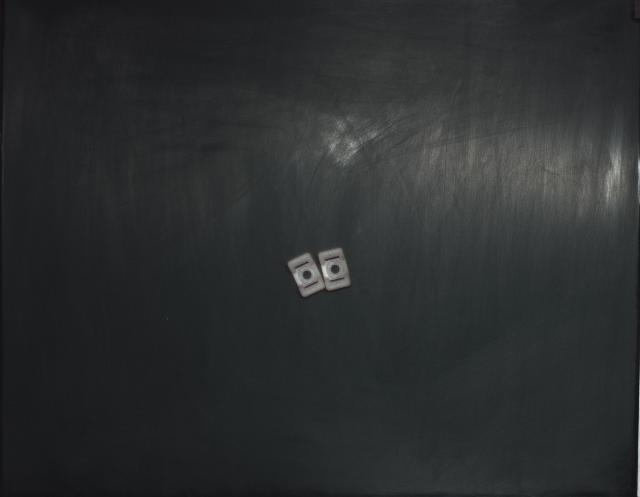first_side: (288, 254, 325, 298), (319, 248, 351, 291)
